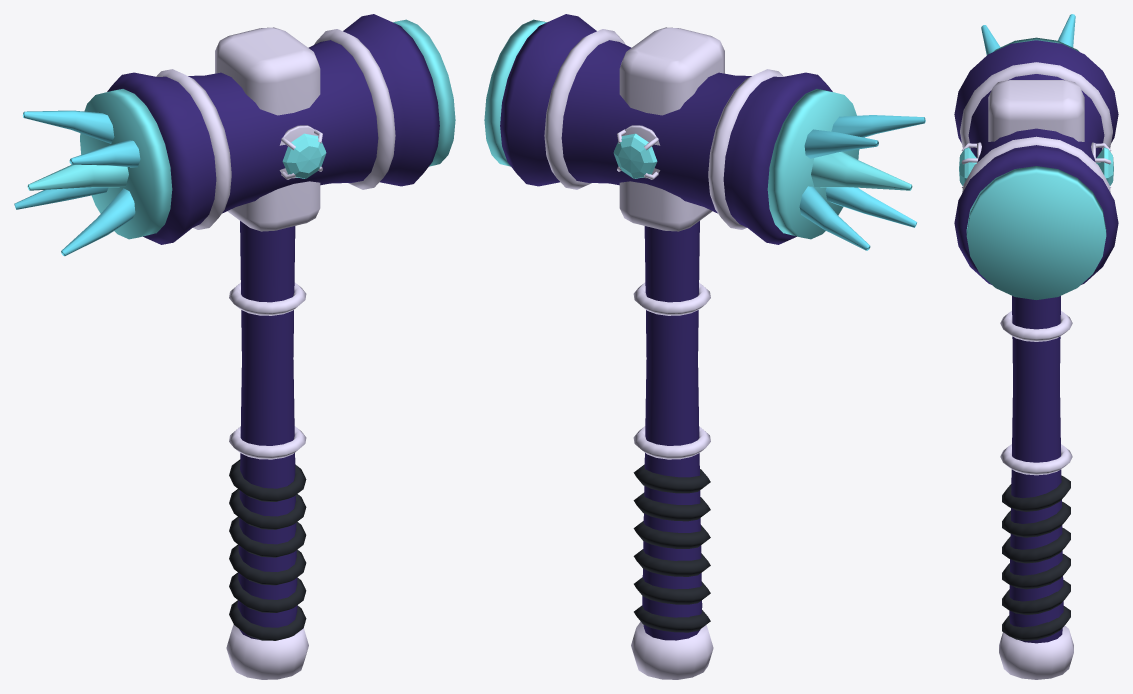
The model's file is Tool_T16.fbx.
3 renders of one model, left to right at view 1: azimuth 30°, elevation 25°; view 2: azimuth 150°, elevation 25°; view 3: azimuth 270°, elevation 25°, orthographic. The views are drawn at different scales.
Visible parts, largest first — view 1: ToolT16Head, ToolT16Handle, ToolT16HeadGlow; view 2: ToolT16Head, ToolT16Handle, ToolT16HeadGlow; view 3: ToolT16Handle, ToolT16Head, ToolT16HeadGlow.
Part boxes in pixels (x1,y1,x2,y2): ToolT16Head: [80, 14, 439, 244]; ToolT16Handle: [226, 221, 308, 679]; ToolT16HeadGlow: [14, 19, 455, 256]; ToolT16Head: [500, 14, 859, 244]; ToolT16Handle: [631, 221, 713, 679]; ToolT16HeadGlow: [484, 19, 925, 250]; ToolT16Handle: [999, 296, 1073, 679]; ToolT16Head: [954, 37, 1118, 284]; ToolT16HeadGlow: [959, 14, 1113, 299].
Size of the model in its own units: 269 by 410 by 106.
